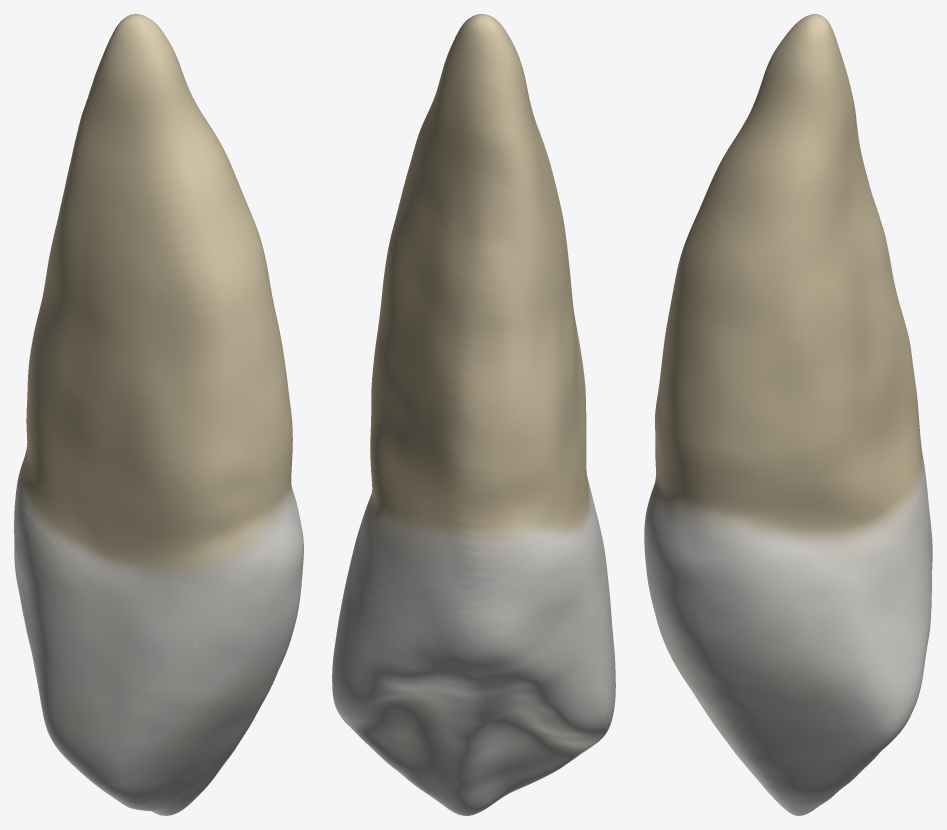
3 renders of one model, left to right at view 1: azimuth 30°, elevation 25°; view 2: azimuth 150°, elevation 25°; view 3: azimuth 270°, elevation 25°, orthographic. The views are drawn at different scales.
Visible parts, largest first — view 1: t23; view 2: t23; view 3: t23.
Boxes of the visible parts, bbox=[...] form: t23: bbox=[14, 14, 303, 815]; t23: bbox=[332, 14, 615, 815]; t23: bbox=[644, 14, 932, 815].
Bounding box in the file's own units: 8.12 × 27 × 8.98.
Materials: 1 (1 with a texture image).
